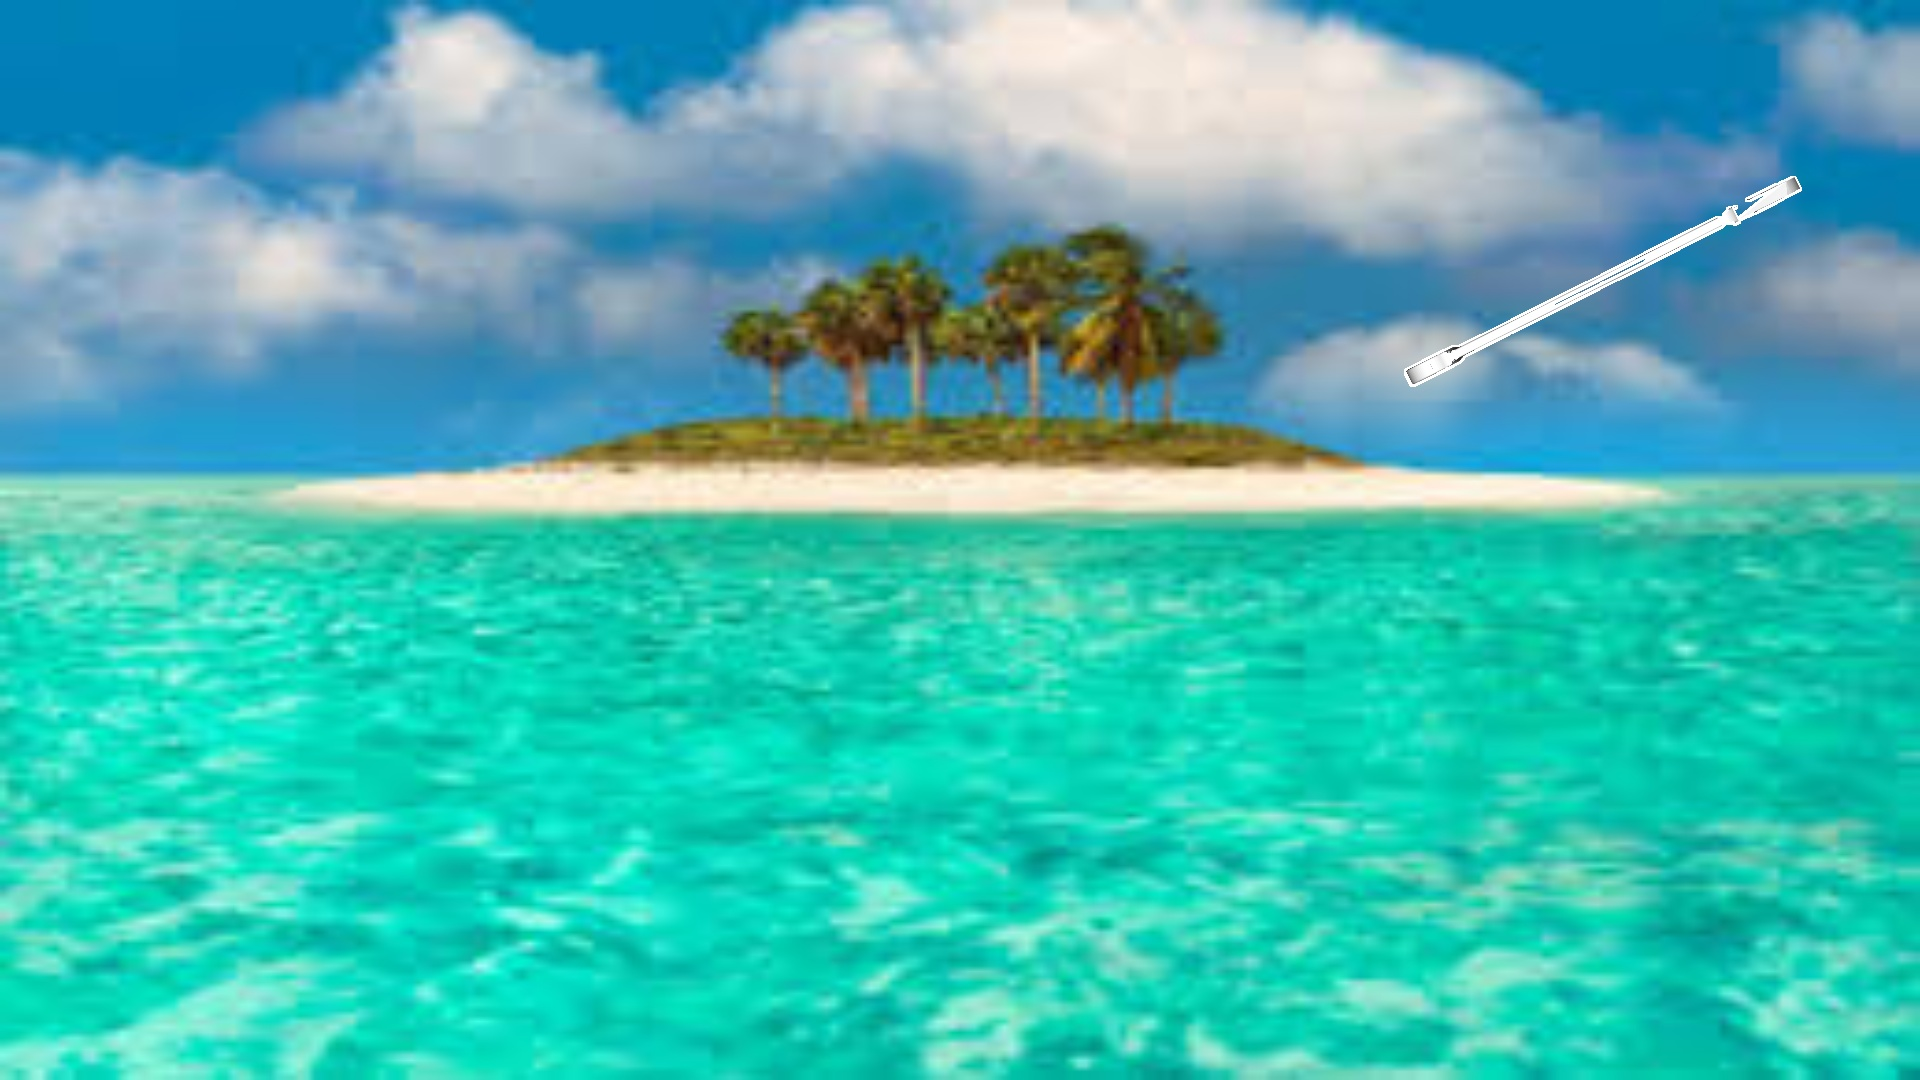Mixed Key: (1404, 175, 1801, 386)
